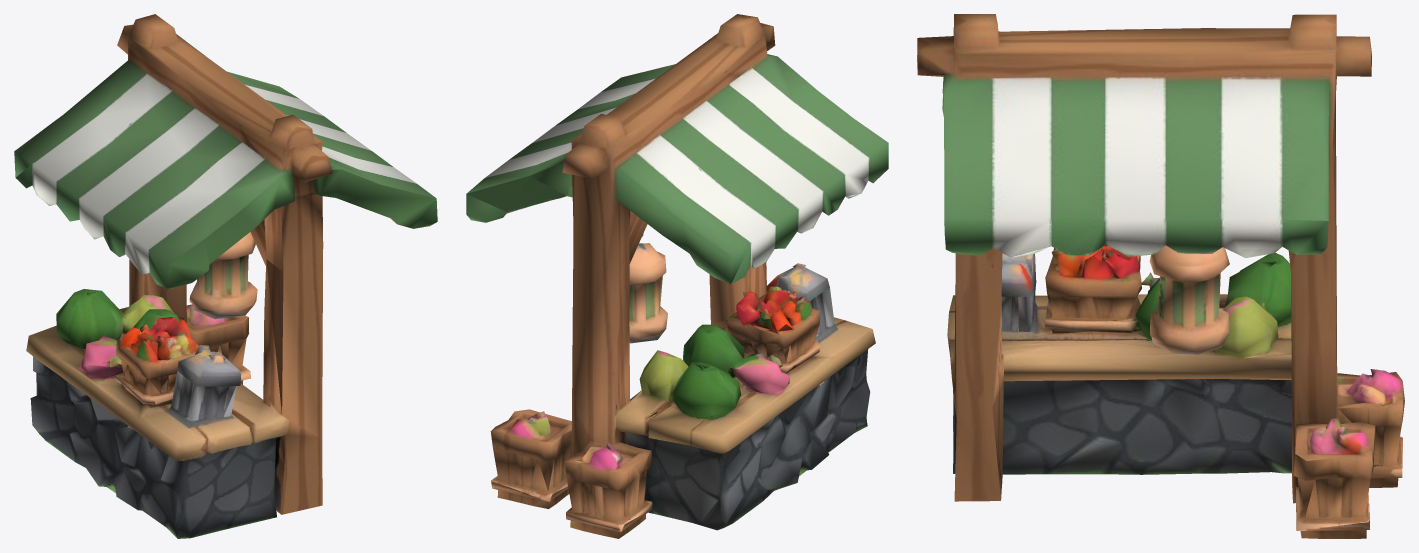
File: awning_stall_2_3000.glb
3 renders of one model, left to right at view 1: azimuth 30°, elevation 25°; view 2: azimuth 150°, elevation 25°; view 3: azimuth 270°, elevation 25°, orthographic. The views are drawn at different scales.
Parts seen in each view (by area): view 1: t3000; view 2: t3000; view 3: t3000.
Part boxes in pixels (bbox=[...]): t3000: bbox=[14, 14, 437, 538]; t3000: bbox=[466, 14, 888, 538]; t3000: bbox=[917, 14, 1404, 538].
Size of the model in its own units: 1.12 by 1.51 by 1.42.
1 material, 1 textured.
